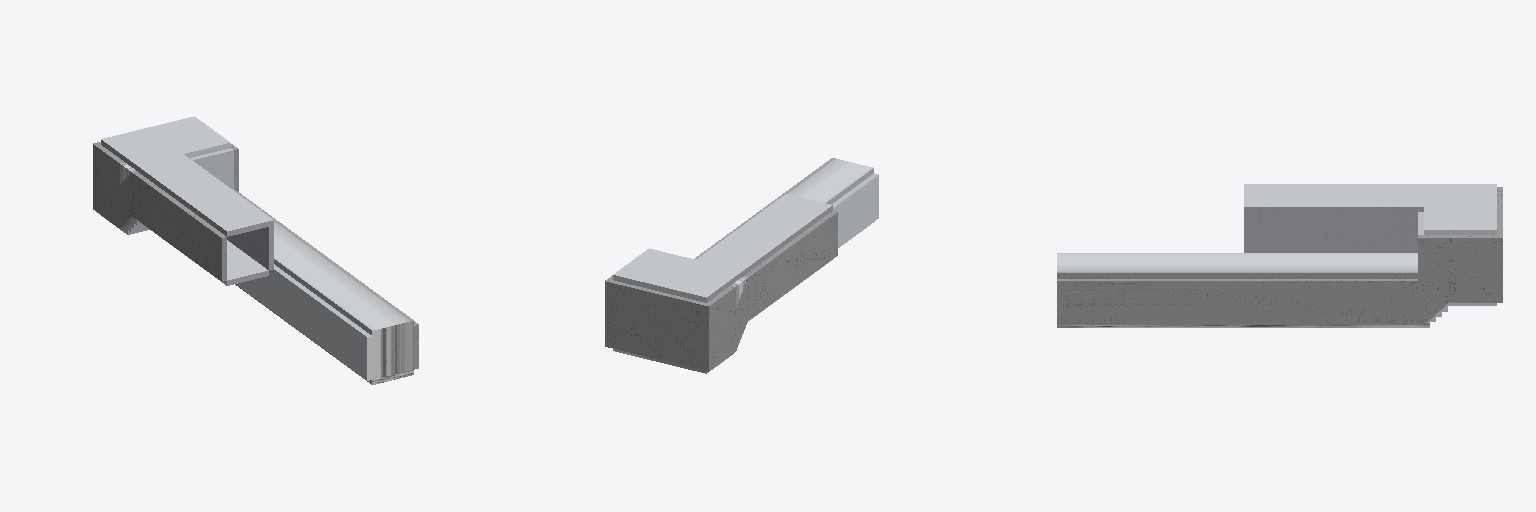
3 renders of one model, left to right at view 1: azimuth 30°, elevation 25°; view 2: azimuth 150°, elevation 25°; view 3: azimuth 270°, elevation 25°, orthographic.
Parts seen in each view (by area): view 1: 立方体; view 2: 立方体; view 3: 立方体.
Boxes of the visible parts, <box> form: 立方体: <box>93,116,418,384</box>; 立方体: <box>605,158,878,373</box>; 立方体: <box>1057,184,1502,327</box>.
Bounding box in the file's own units: 20 × 18 × 74.
Materials: 1 (1 with a texture image).